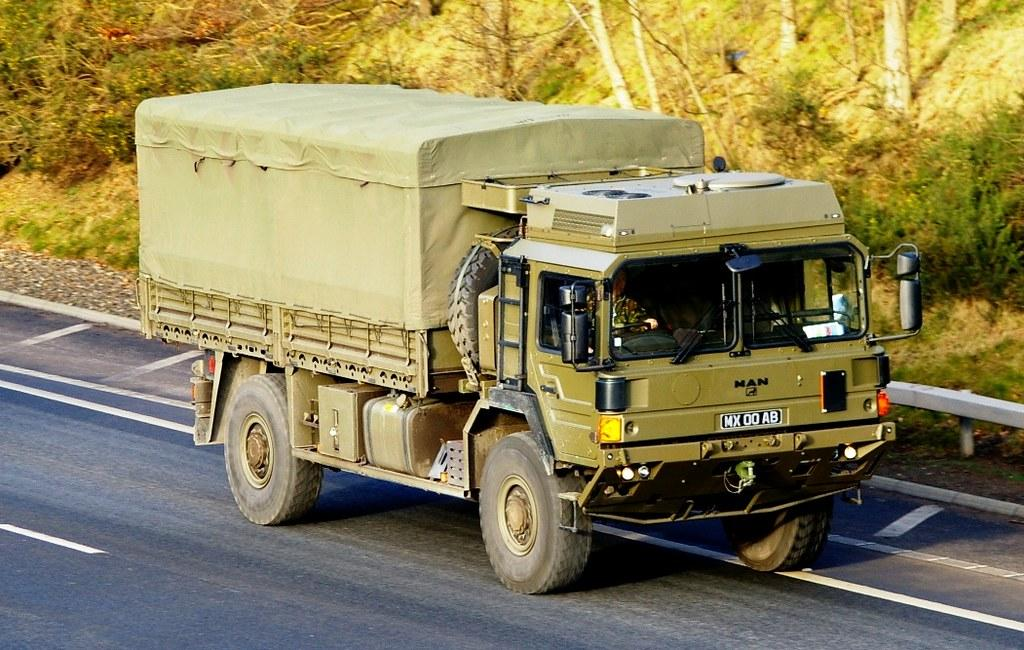truck: (136, 52, 914, 586)
